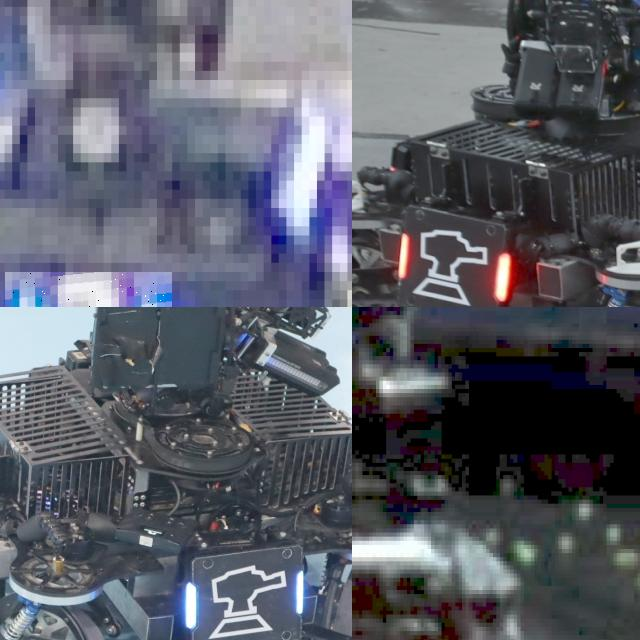B3: (4, 271, 172, 307)
Bs: (184, 563, 306, 640)
Rs: (397, 215, 509, 307)
